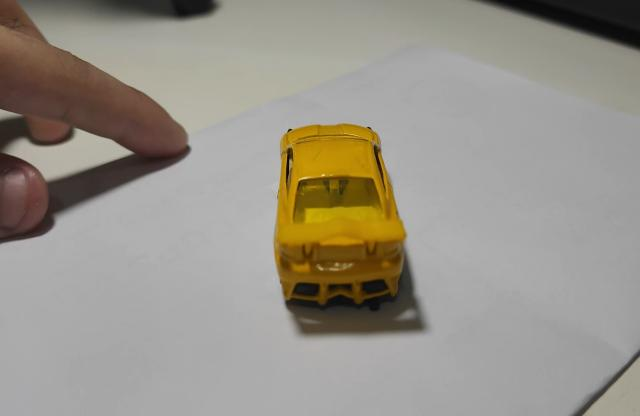07_RHLTURBO: (273, 124, 407, 318)
